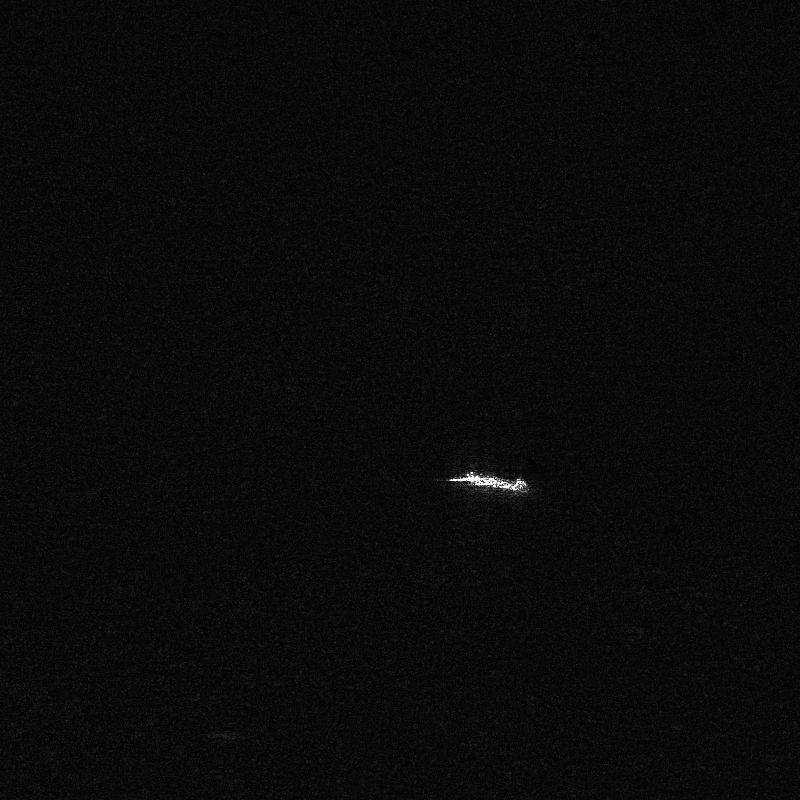ship: (448, 470, 529, 494)
